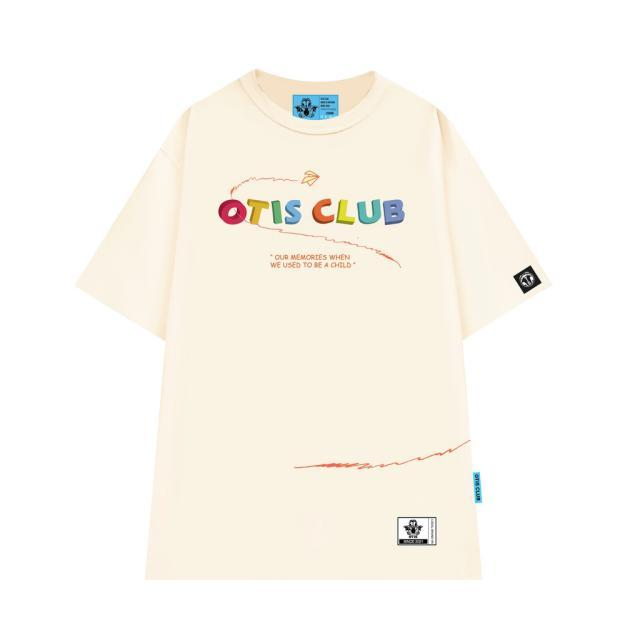Shirt: (72, 62, 544, 590)
